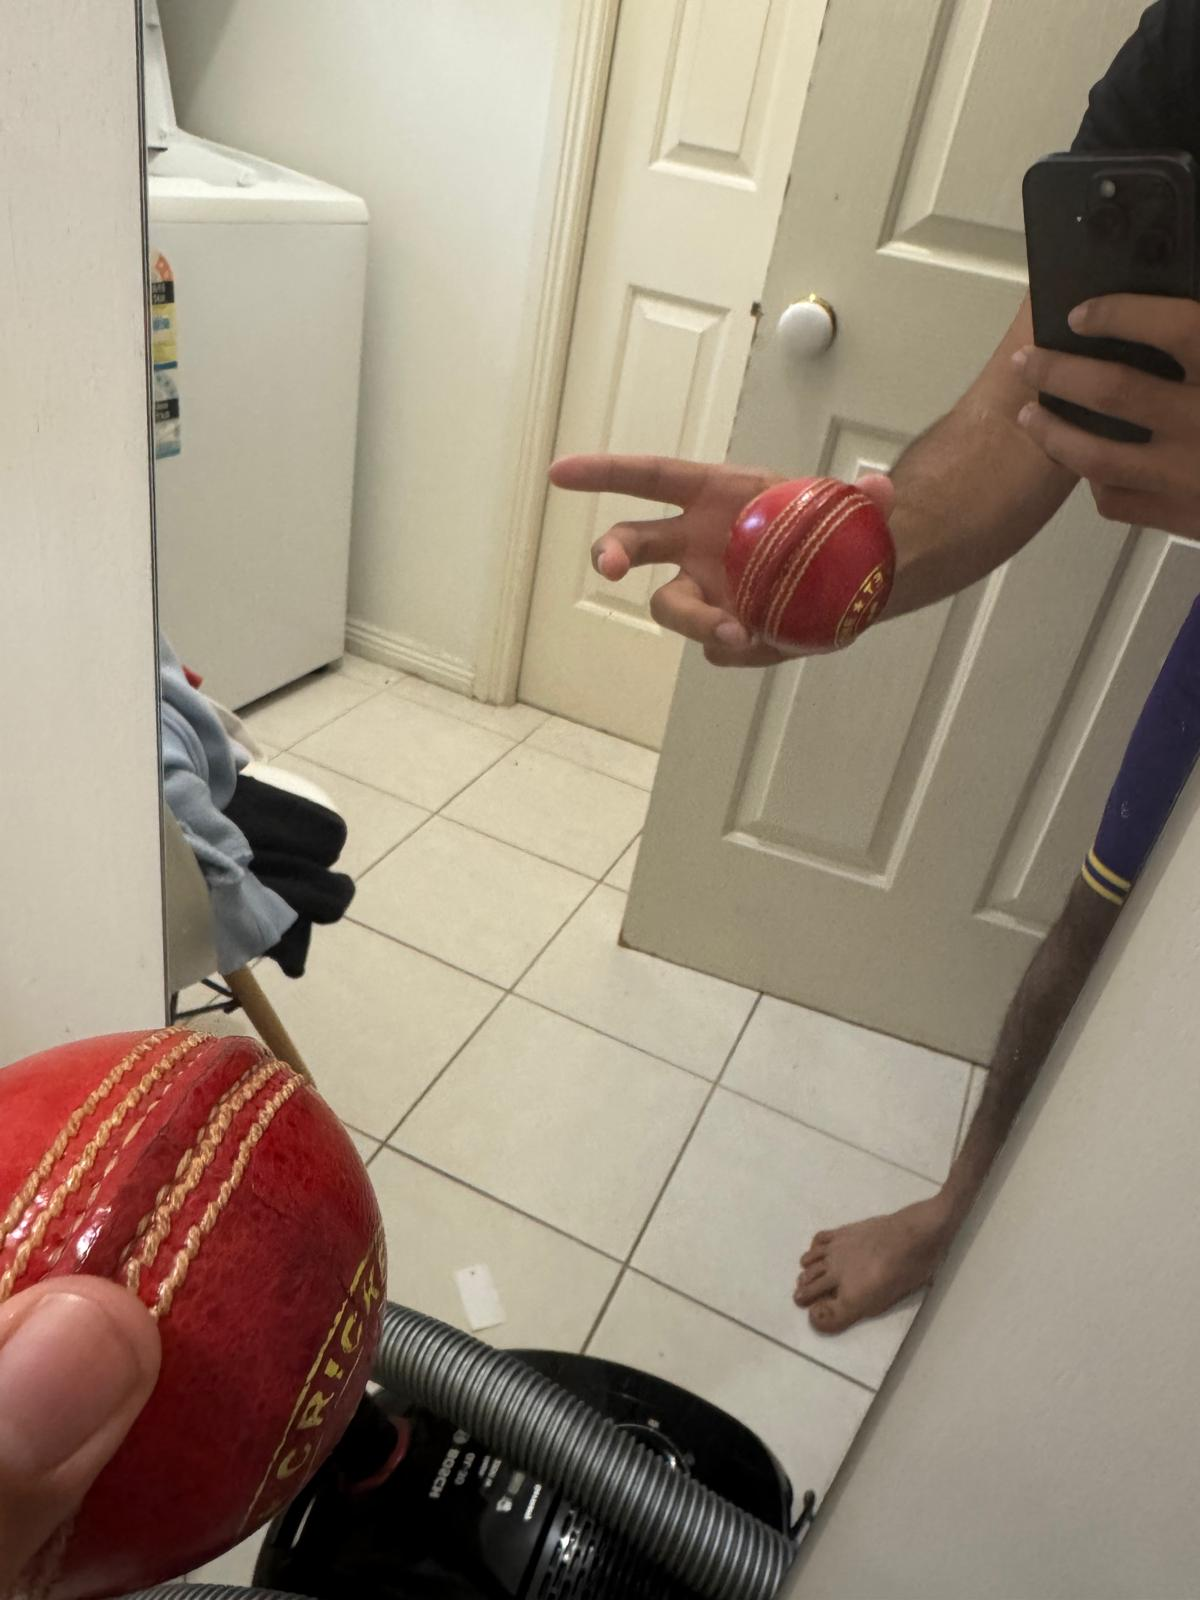Red_Ball: (0, 1024, 415, 1574), (721, 467, 908, 651)
